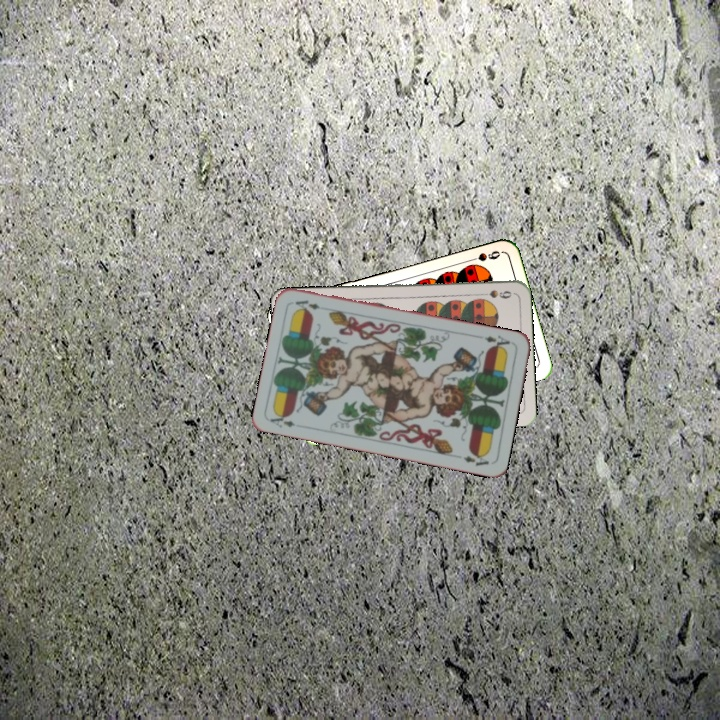EA: (266, 409, 298, 430), (481, 331, 512, 352)
S9: (463, 246, 503, 265), (474, 286, 514, 301)
